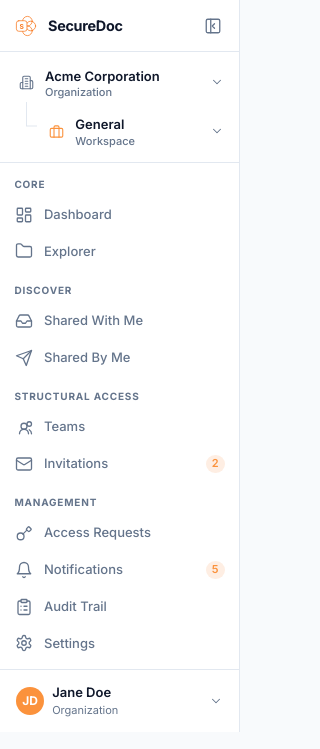
Test: SidebarComponent › Level 2: Project Workspace Selector › Organization Context Workspaces › should open WORKSPACES popover on click and list organization workspaces with numeric IDs
Click the button with class "subspace-node": [135, 131] box [37,109,233,154]
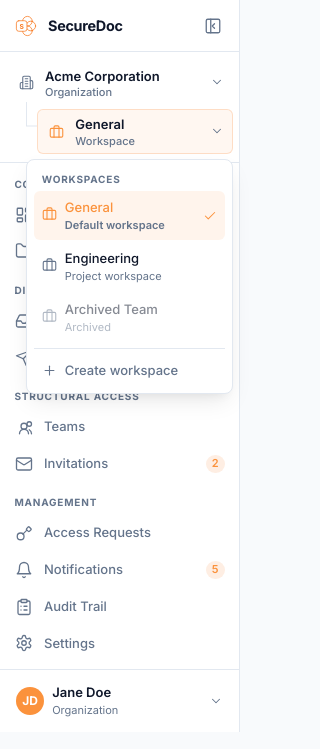
Check: the text "WORKSPACES" is shown, box [42,173,121,185]
